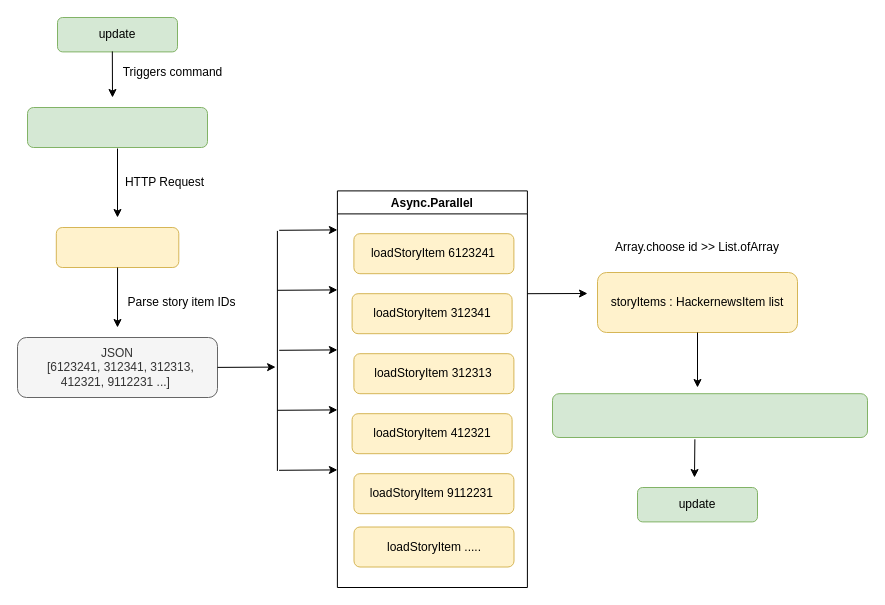
Some shapes in this 885 by 605 pixel diagram are drawn without their labels. The shapes that lost their labels are listed below. From the top down, each one's centre as x and y in pixels, then its label:
the point at 117,127: Cmd.ofAsync loadStoryItems
the point at 117,247: Hackernews API
the point at 710,415: Msg.LoadStoryItems (Finished (Resolved storyItems))
